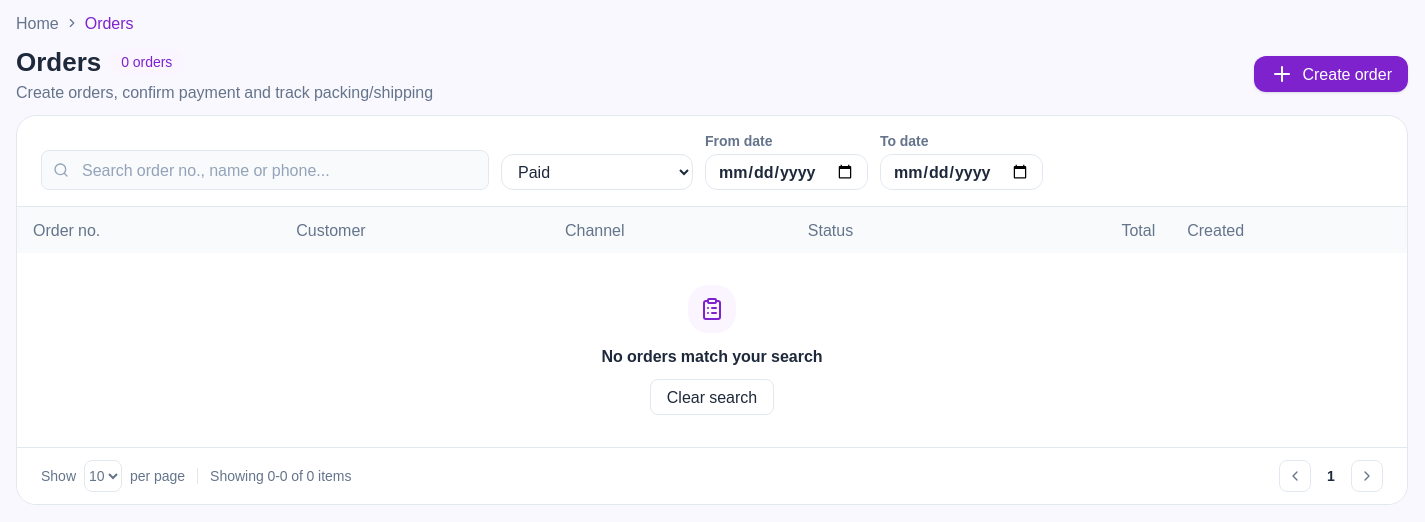
Test: OrderList › ວ່າງ ມີ filter: 'ບໍ່ພົບ' ແລະ ລ້າງ filter ມີຜົນທັນທີ (ບໍ່ລໍ debounce)
Check: the text "No orders match your search" is shown, box [601,344,823,366]
In the search field with placeholder "Search order no., name or phone...": (265, 170) [41,150,489,190], type "zzz"
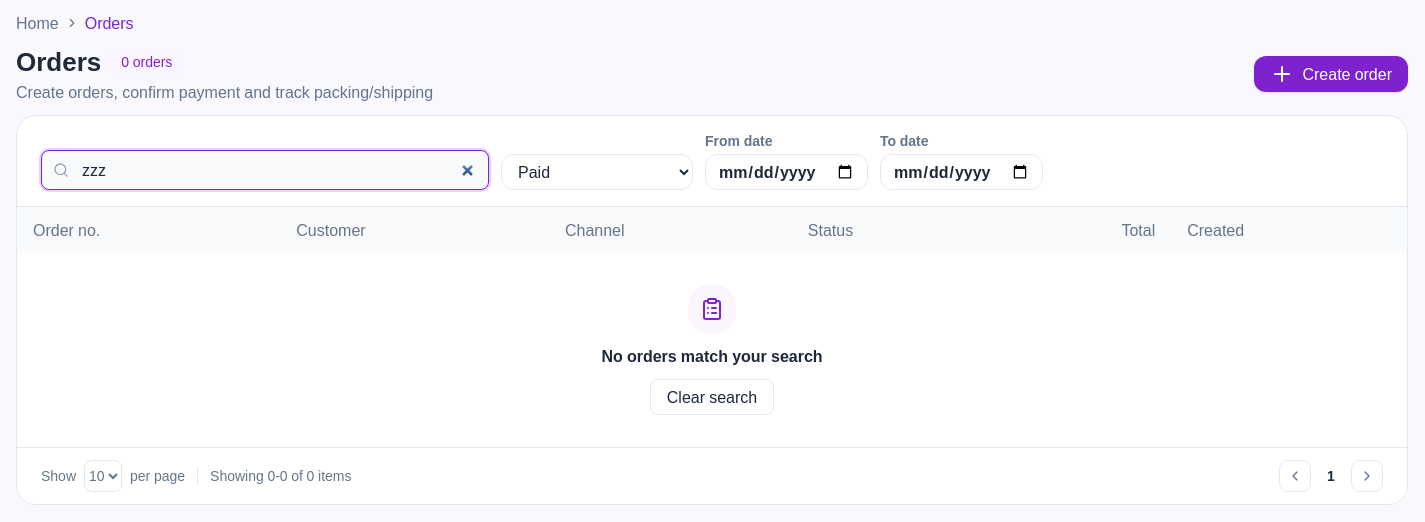
Click the button "Clear search": (712, 396) [650,378,774,414]
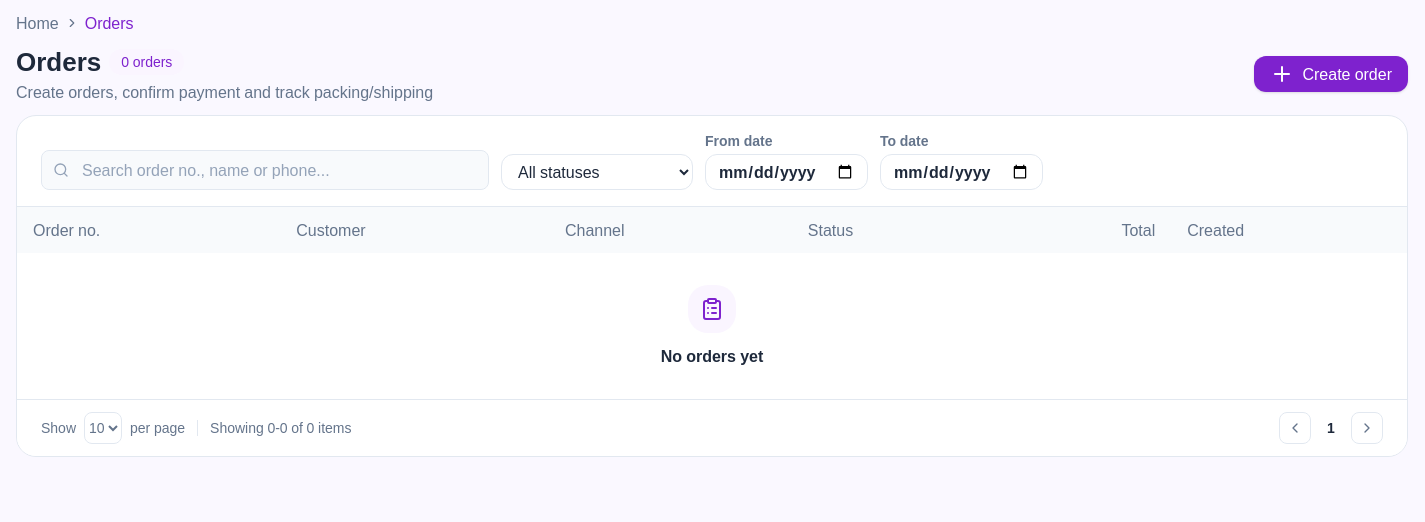
Check: the search field with placeholder "Search order no., name or phone..." is empty, box [41,150,489,190]
Check: the dropdown named "Status" shows "All statuses", box [501,154,693,190]
